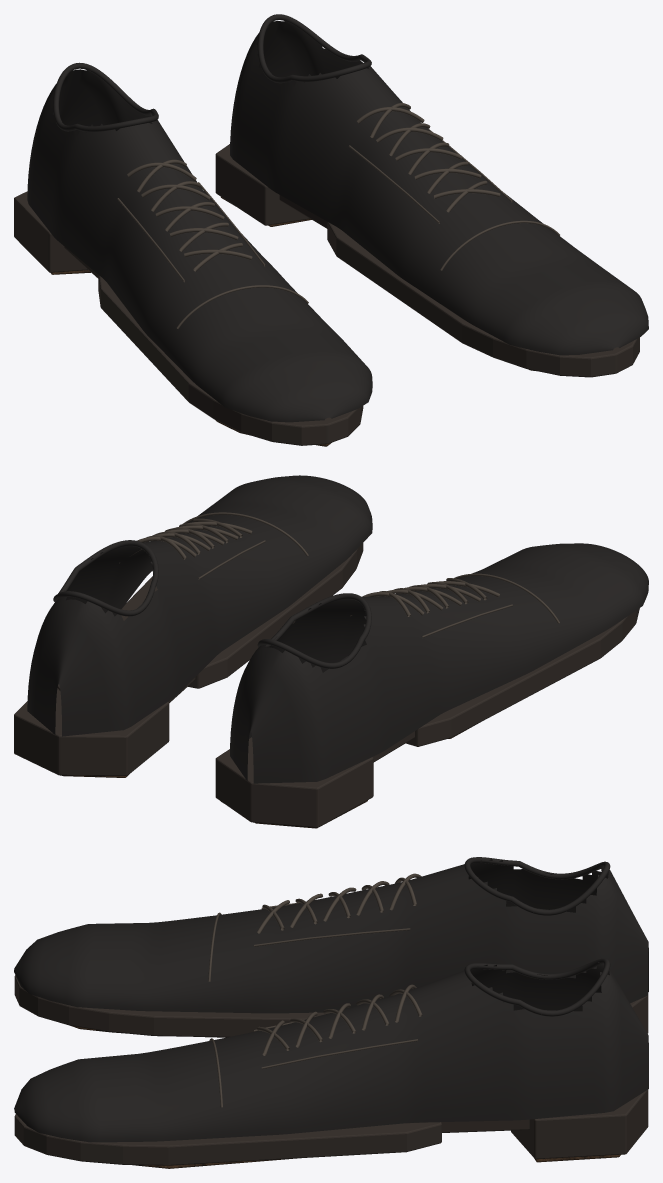
The model's file is shoes-v1.glb.
The picture shows the model from 3 angles, top to bottom: view 1: azimuth 30°, elevation 25°; view 2: azimuth 150°, elevation 25°; view 3: azimuth 270°, elevation 25°; orthographic projection.
Visible parts, largest first — view 1: 沾干泥的皮鞋; view 2: 沾干泥的皮鞋; view 3: 沾干泥的皮鞋.
Part boxes in pixels (left/top/right/bottom): 沾干泥的皮鞋: left=14, top=14, right=648, bottom=446; 沾干泥的皮鞋: left=14, top=475, right=648, bottom=828; 沾干泥的皮鞋: left=14, top=857, right=648, bottom=1168.
Bounding box in the file's own units: 0.2612 × 0.1035 × 0.344.
4 materials, 1 textured.
